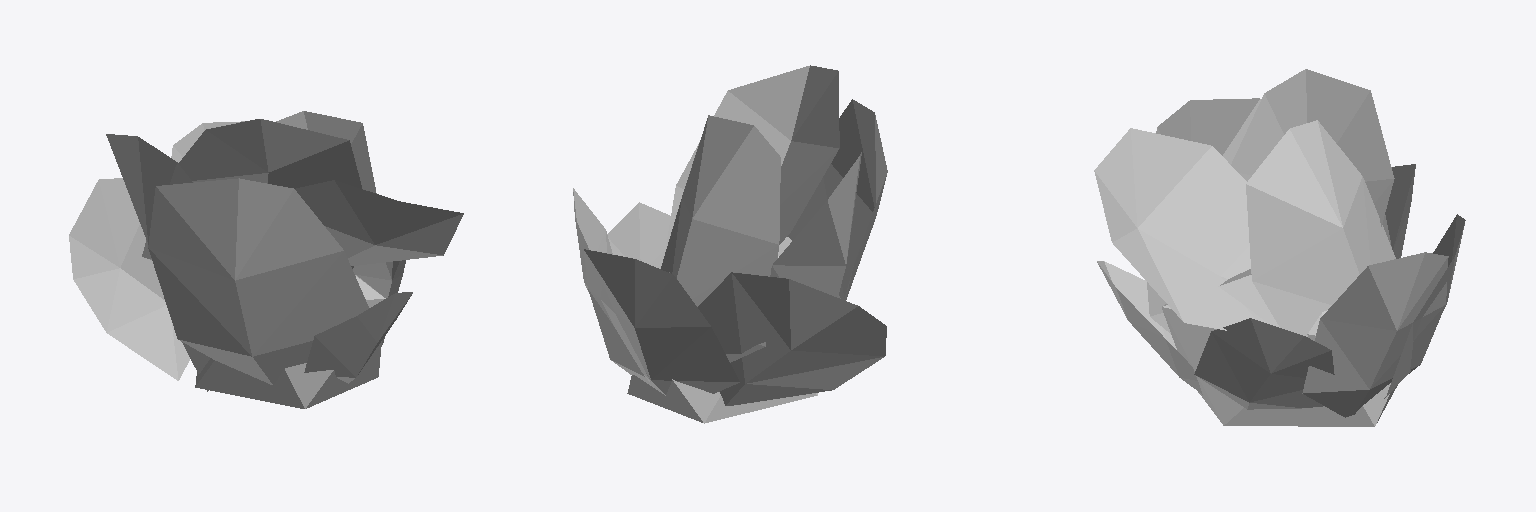
The model's file is bush.obj.
The picture shows the model from 3 angles: view 1: azimuth 30°, elevation 25°; view 2: azimuth 150°, elevation 25°; view 3: azimuth 270°, elevation 25°; orthographic projection.
Size of the model in its own units: 0.7283 by 0.6266 by 0.7763.